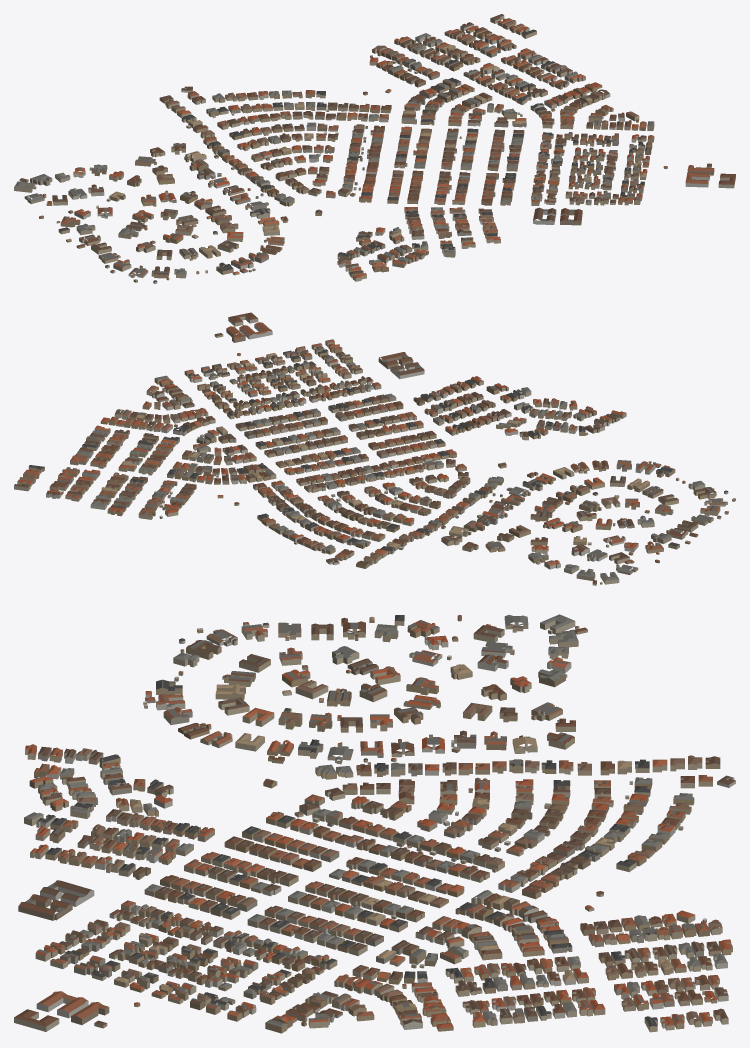
3 views of the same model, one above another, from view 1: azimuth 30°, elevation 25°; view 2: azimuth 150°, elevation 25°; view 3: azimuth 270°, elevation 25° (orthographic). The views are drawn at different scales.
Parts seen in each view (by area): view 1: buildings_r2_c4_lod1; view 2: buildings_r2_c4_lod1; view 3: buildings_r2_c4_lod1.
Boxes of the visible parts, x1,y1,x2,y2 form: buildings_r2_c4_lod1: (14,14,735,283); buildings_r2_c4_lod1: (14,312,735,585); buildings_r2_c4_lod1: (14,614,735,1033).
Bounding box in the file's own units: 1125 × 28.44 × 817.
